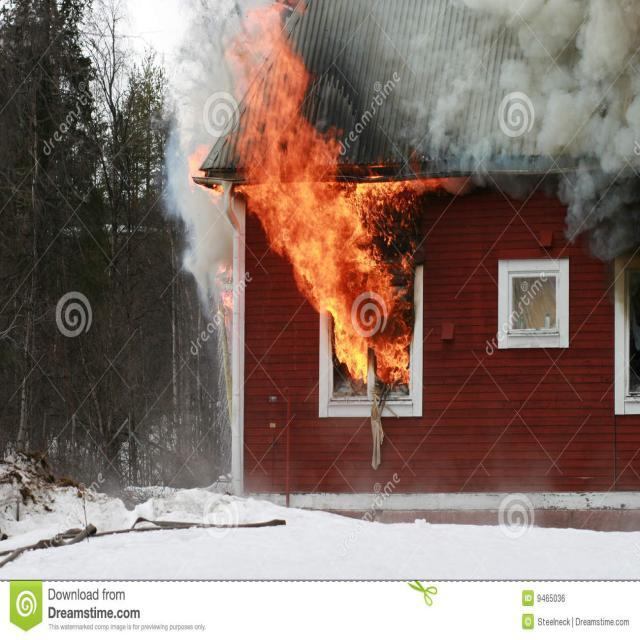Fire: (242, 8, 324, 306), (327, 182, 415, 386)
Smoke: (513, 4, 640, 171), (171, 47, 230, 297)
